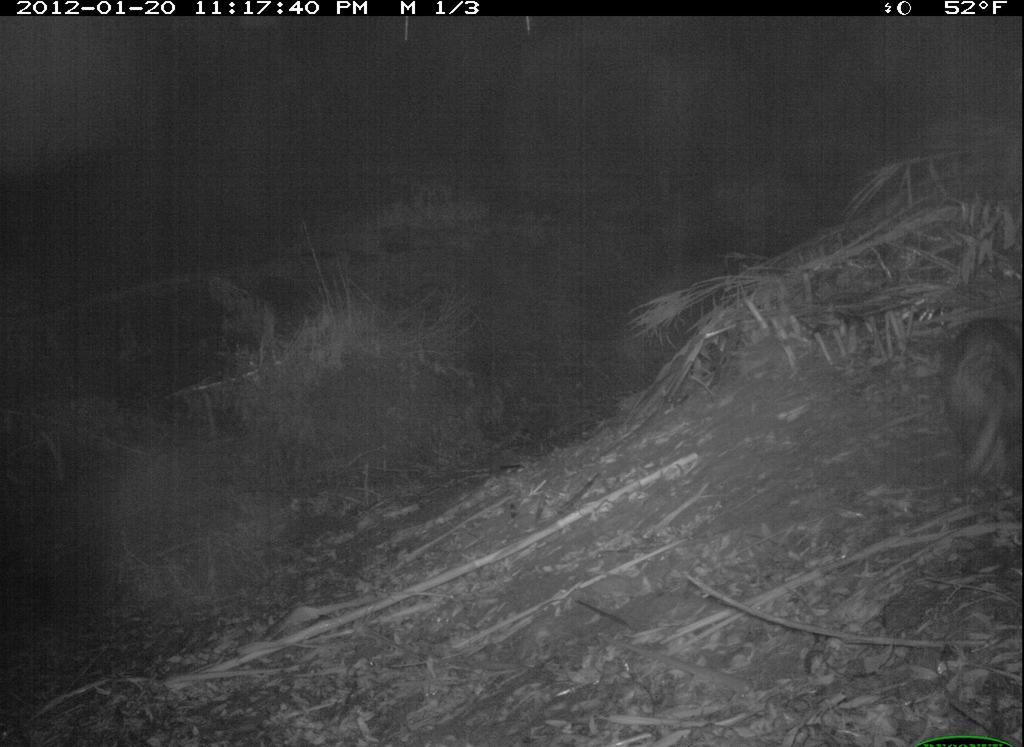opossum: (926, 306, 1021, 517)
